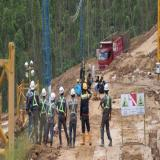Helmet: (50, 92, 56, 101), (30, 80, 35, 90), (42, 88, 46, 97), (60, 86, 64, 95), (104, 84, 109, 91), (71, 88, 75, 95), (83, 83, 87, 90), (85, 79, 87, 83), (77, 79, 79, 82)
